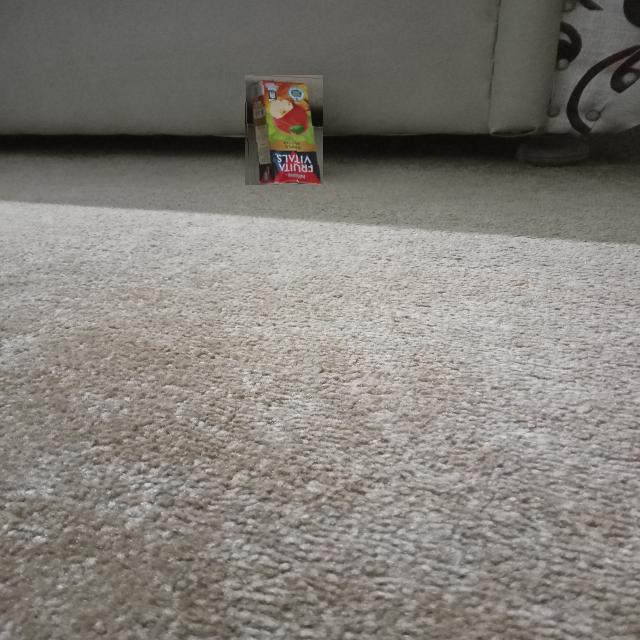Plastic: (244, 74, 323, 185)
